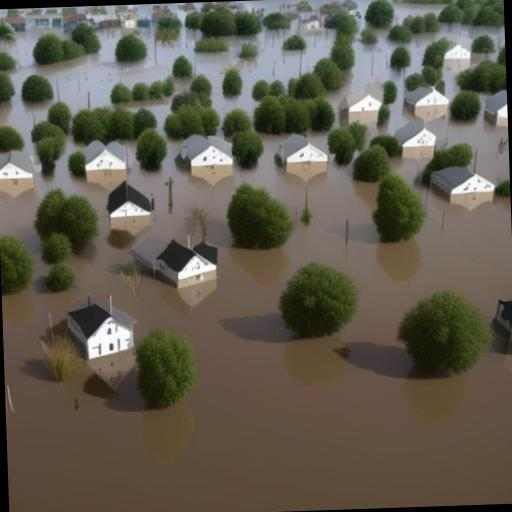flood: (0, 19, 512, 469), (6, 364, 512, 512), (326, 24, 505, 139), (426, 108, 509, 184), (124, 97, 170, 133), (390, 0, 442, 21), (238, 0, 298, 13), (175, 78, 190, 91), (94, 417, 102, 433)
house: (143, 232, 226, 290), (65, 298, 132, 366), (82, 140, 128, 192), (425, 164, 495, 196), (105, 181, 154, 222), (181, 136, 235, 168), (278, 138, 330, 165), (0, 158, 36, 195), (345, 84, 387, 112), (392, 122, 436, 148), (406, 84, 450, 108), (492, 294, 512, 346), (442, 40, 470, 64), (484, 91, 508, 118)
